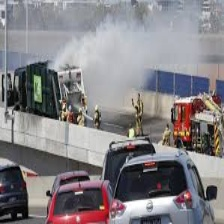smoke: (59, 25, 205, 98)
